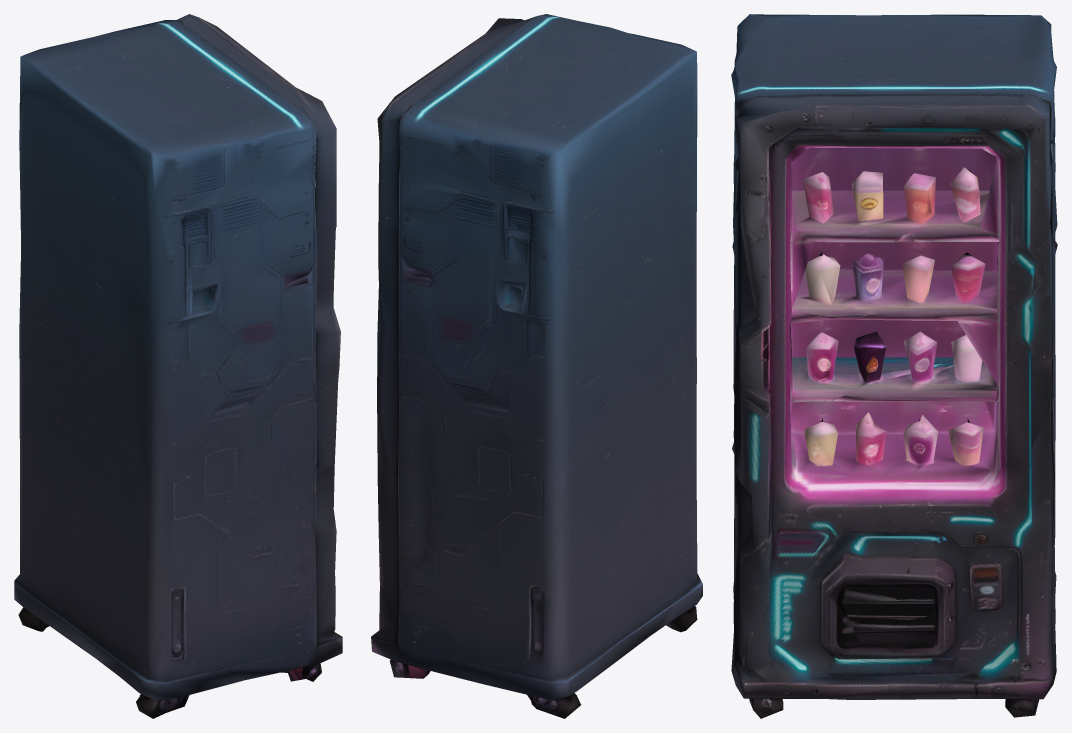
The picture shows the model from 3 angles, left to right: view 1: azimuth 30°, elevation 25°; view 2: azimuth 150°, elevation 25°; view 3: azimuth 270°, elevation 25°; orthographic projection. The views are drawn at different scales.
Visible parts, largest first — view 1: tripo_node_e4493c0c-72b6-48af-b0fd-525db9fd45af; view 2: tripo_node_e4493c0c-72b6-48af-b0fd-525db9fd45af; view 3: tripo_node_e4493c0c-72b6-48af-b0fd-525db9fd45af.
Boxes of the visible parts, x1,y1,x2,y2 form: tripo_node_e4493c0c-72b6-48af-b0fd-525db9fd45af: (14, 14, 342, 718); tripo_node_e4493c0c-72b6-48af-b0fd-525db9fd45af: (371, 14, 702, 718); tripo_node_e4493c0c-72b6-48af-b0fd-525db9fd45af: (731, 14, 1057, 718).
Size of the model in its own units: 0.6493 by 1.8 by 0.855.
Materials: 1 (1 with a texture image).
